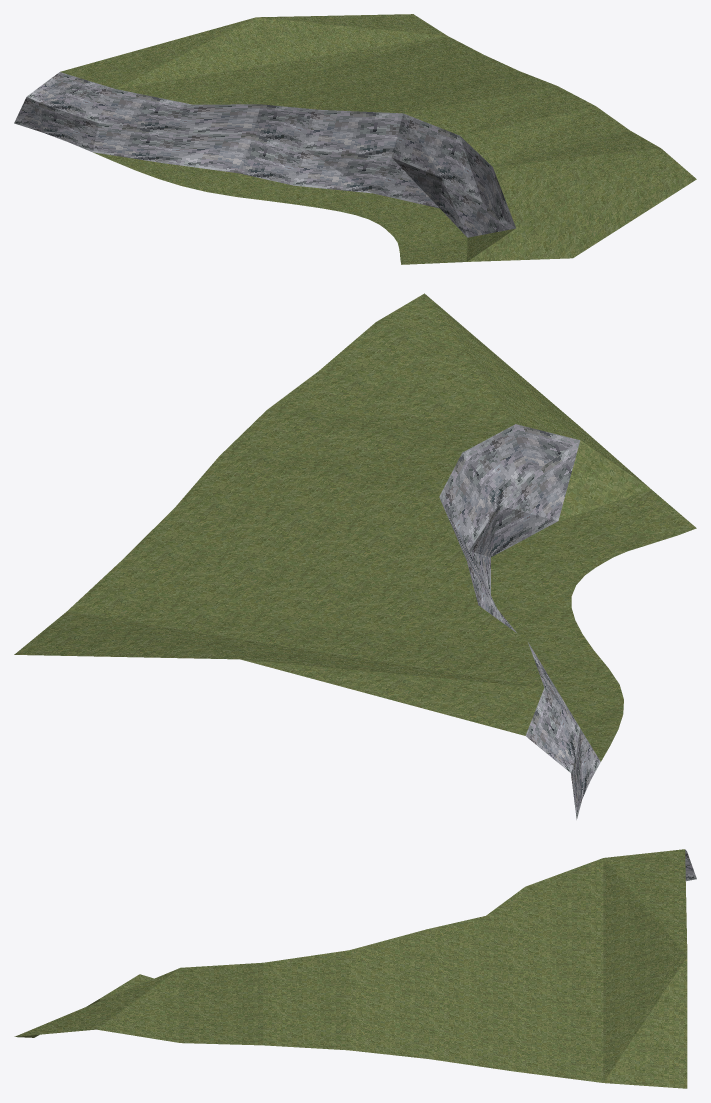
File: lod_cen_bit_18.obj
3 renders of one model, top to bottom at view 1: azimuth 30°, elevation 25°; view 2: azimuth 150°, elevation 25°; view 3: azimuth 270°, elevation 25°, orthographic. The views are drawn at different scales.
Visible parts, largest first — view 1: lod_cen_bit_18; view 2: lod_cen_bit_18; view 3: lod_cen_bit_18.
Part boxes in pixels (x1,y1,x2,y2): lod_cen_bit_18: (14,14,696,264); lod_cen_bit_18: (14,293,696,819); lod_cen_bit_18: (14,849,696,1088).
Bounding box in the file's own units: 139 × 25.48 × 174.
3 materials, 3 textured.
